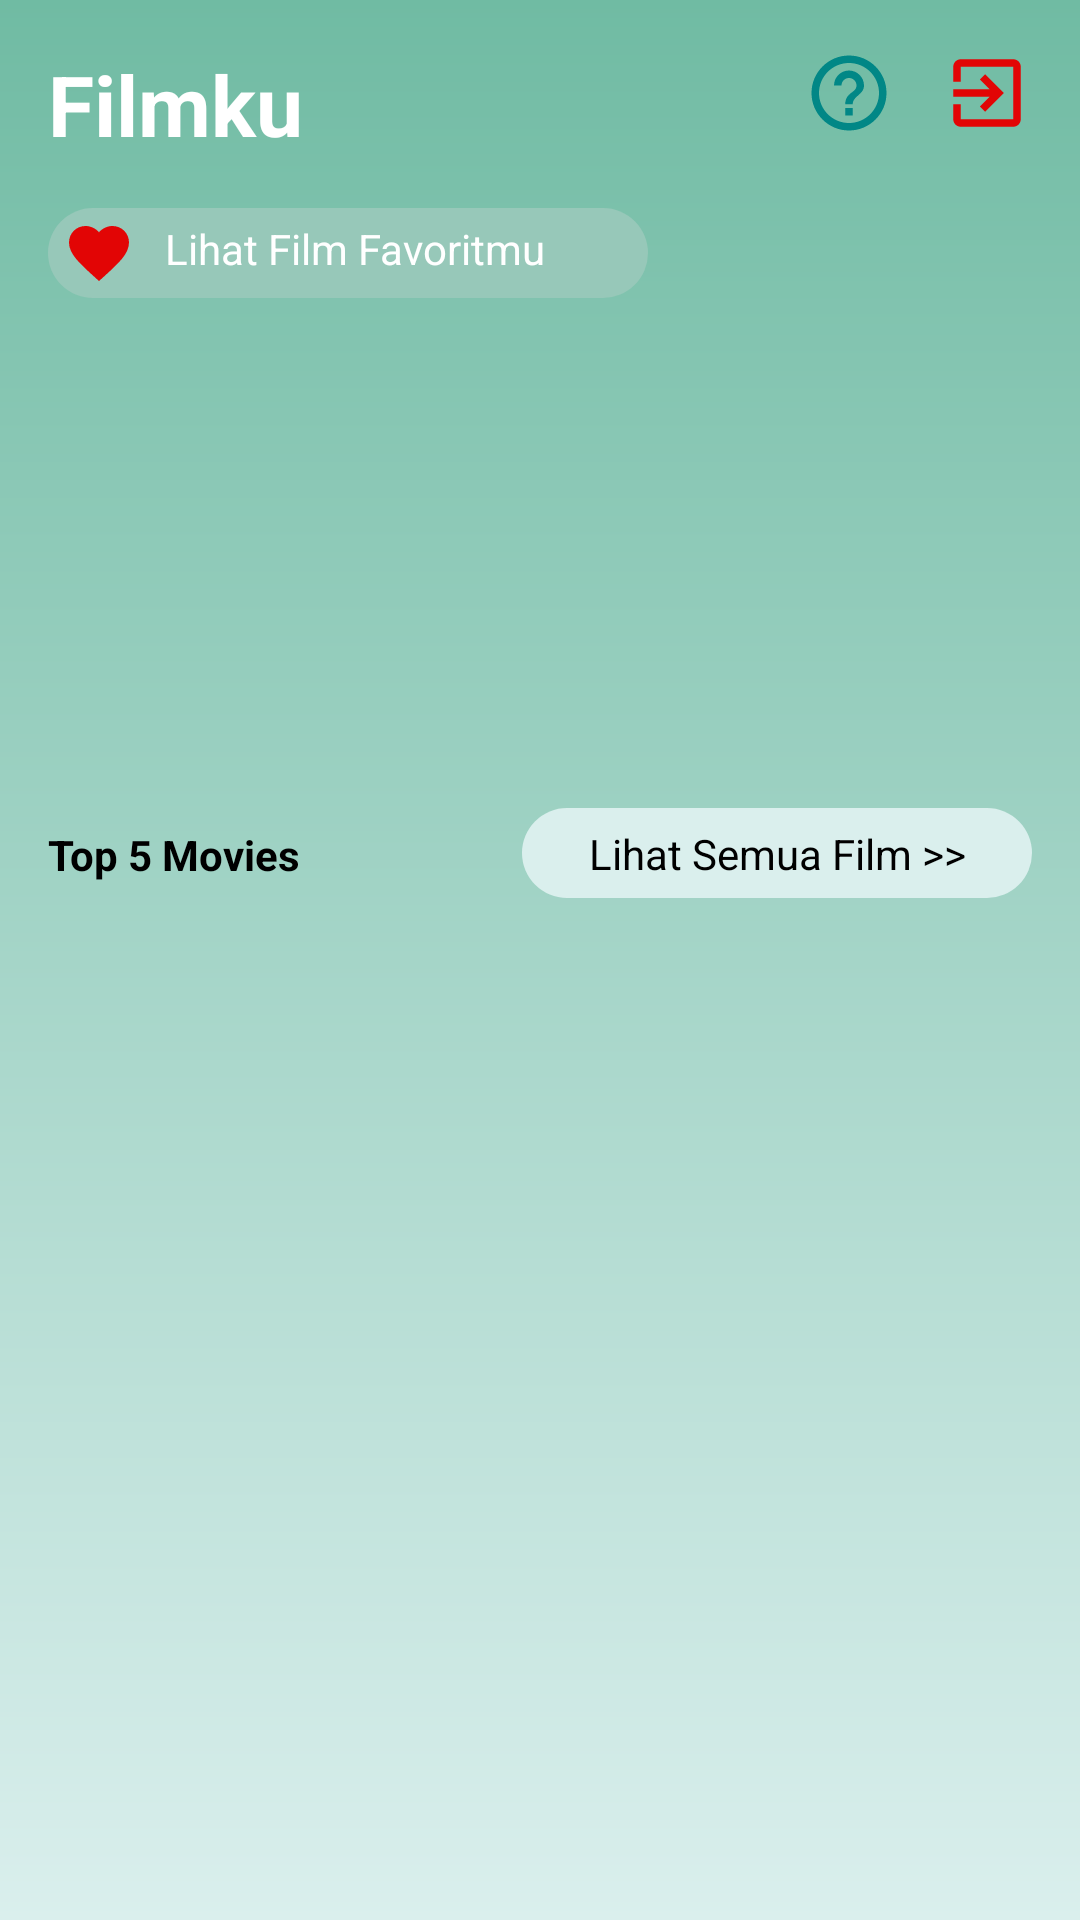

Icons on this 1080px×1920px Android screen, each with its box as (x1, y1, x2, y2):
exit to app: (953, 59, 1021, 127)
favorite: (69, 226, 129, 281)
help: (811, 55, 887, 131)
